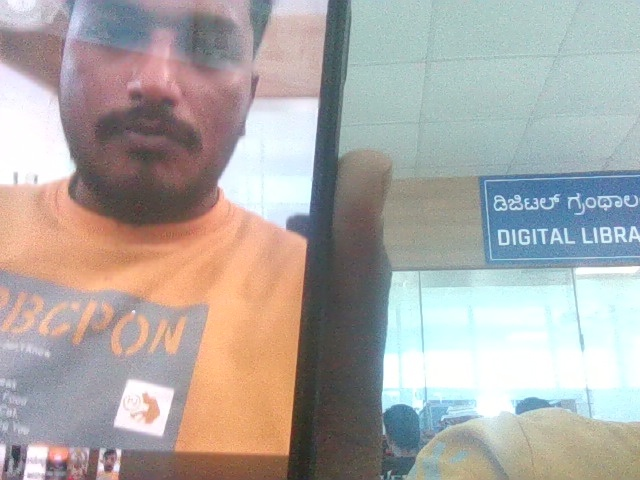fake: (26, 0, 292, 377)
